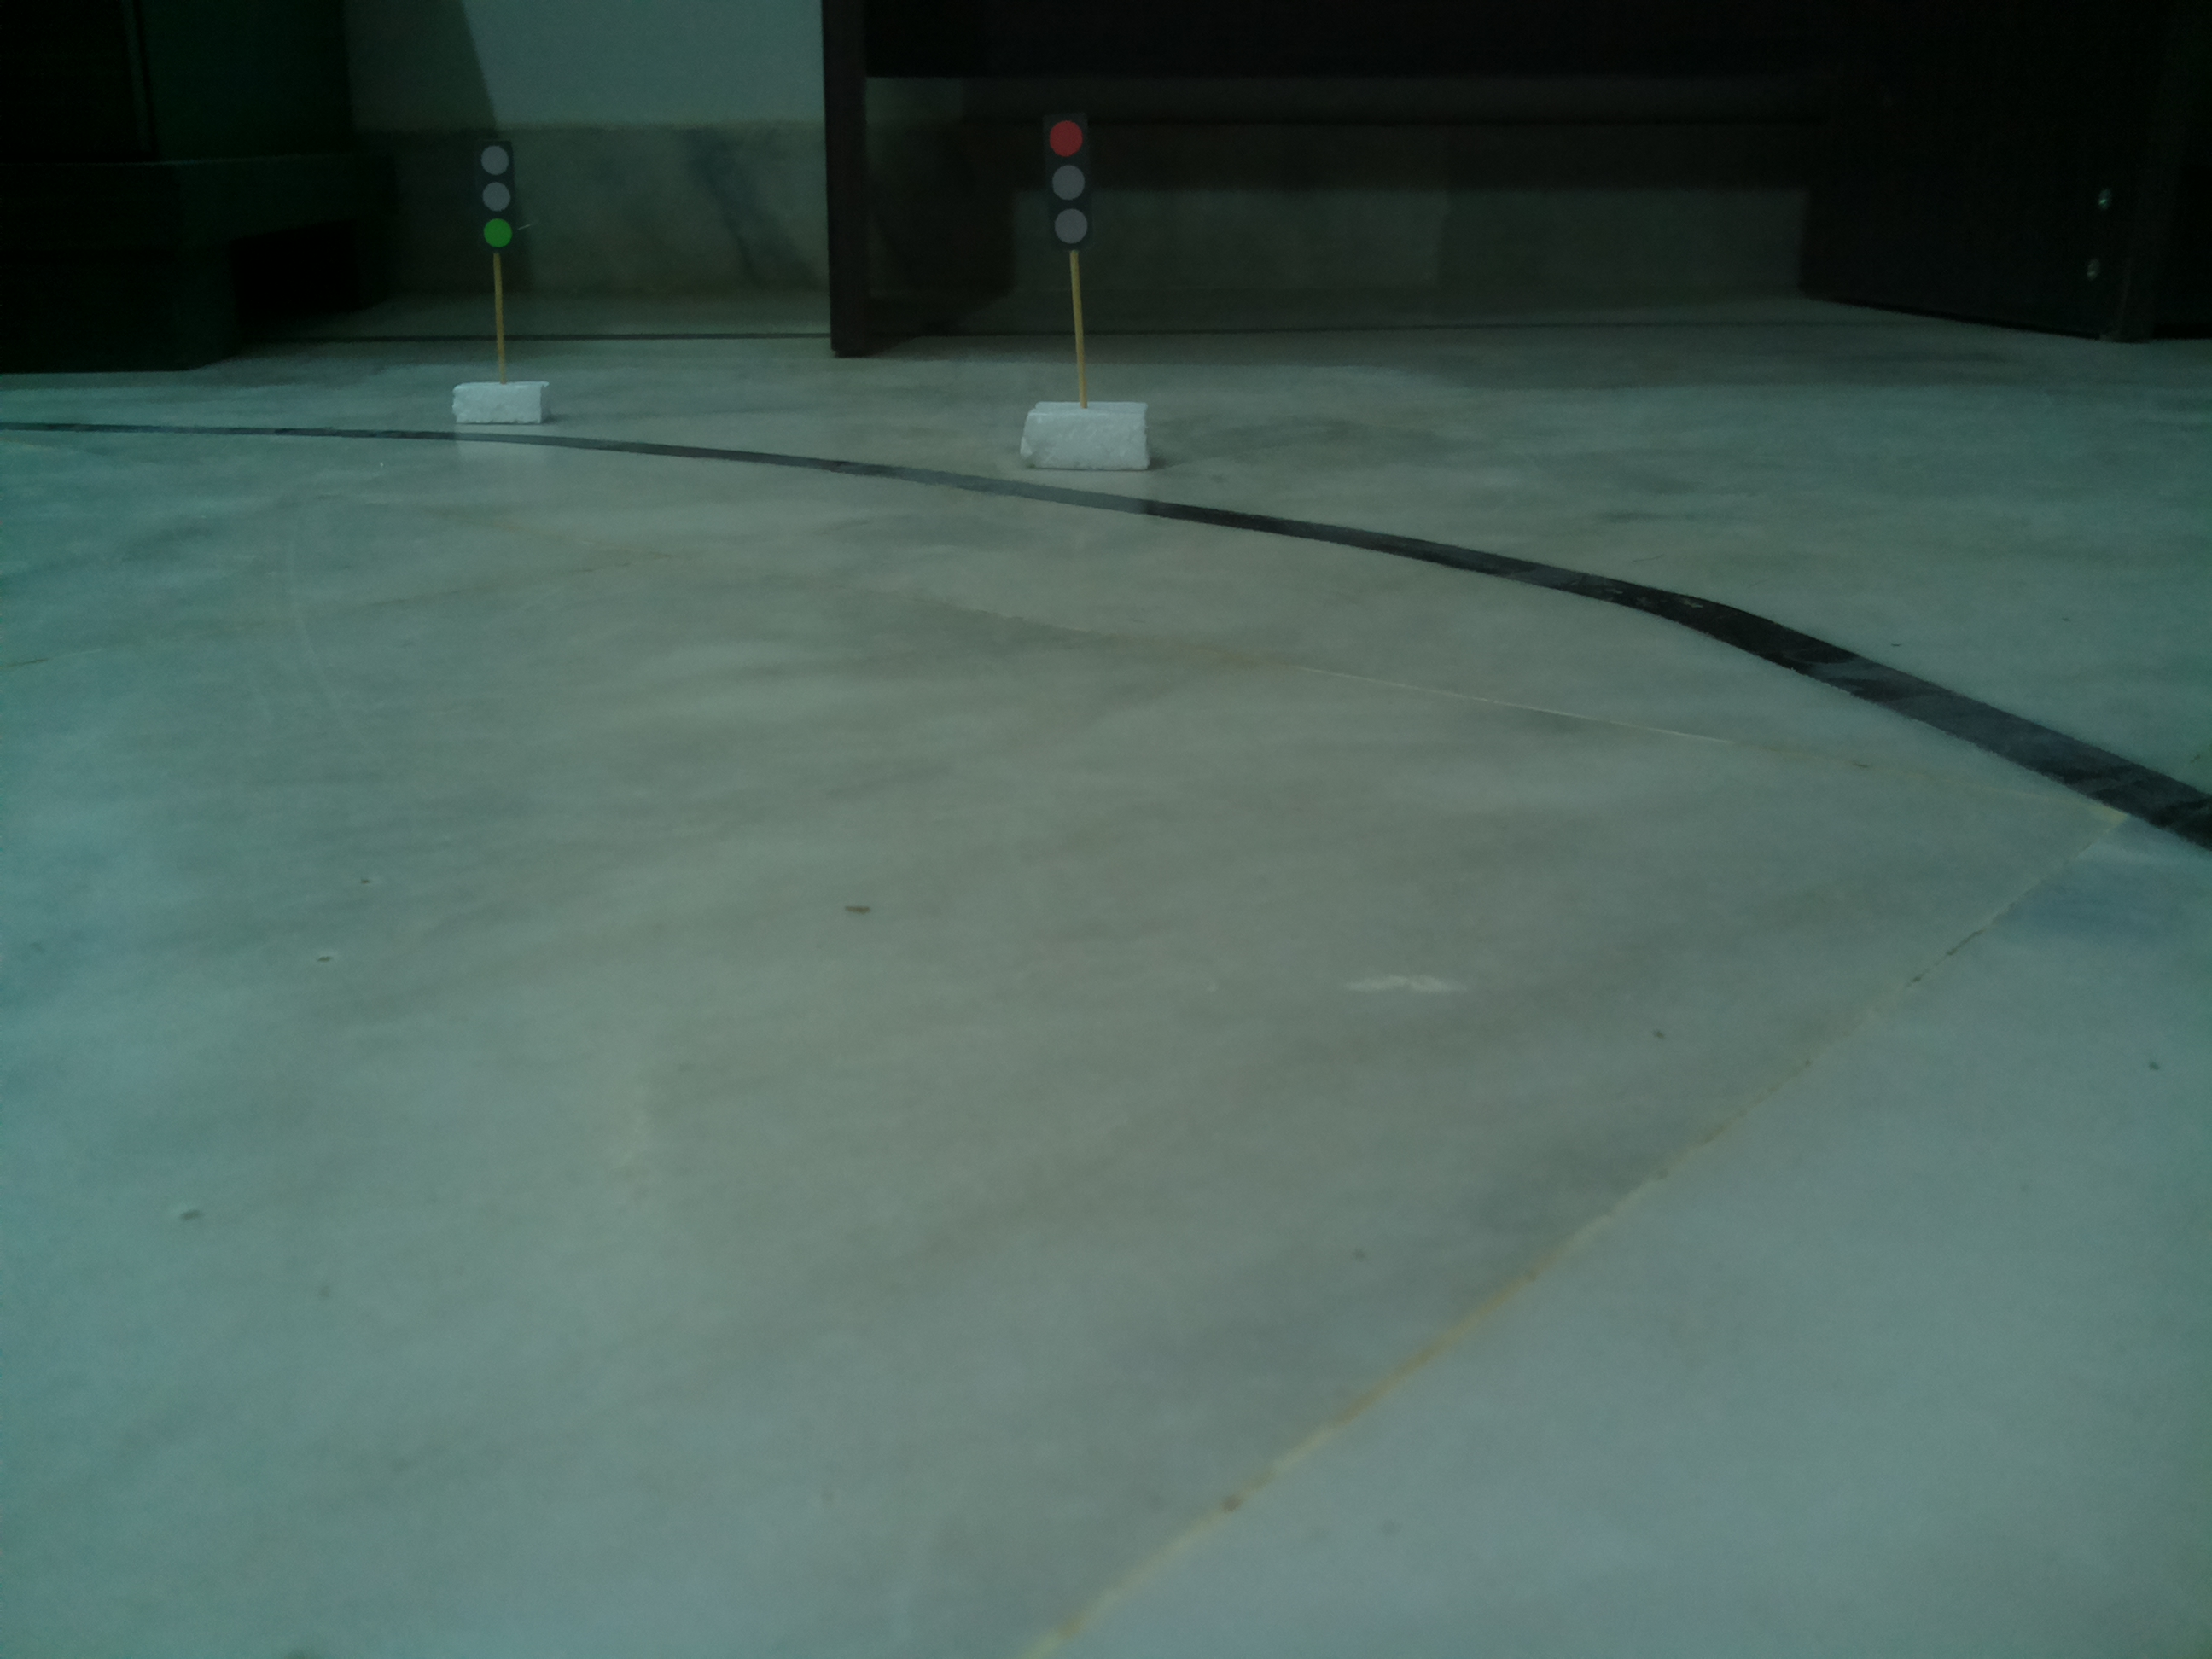Green traffic light: (455, 134, 533, 258)
Red traffic light: (1017, 110, 1103, 256)
